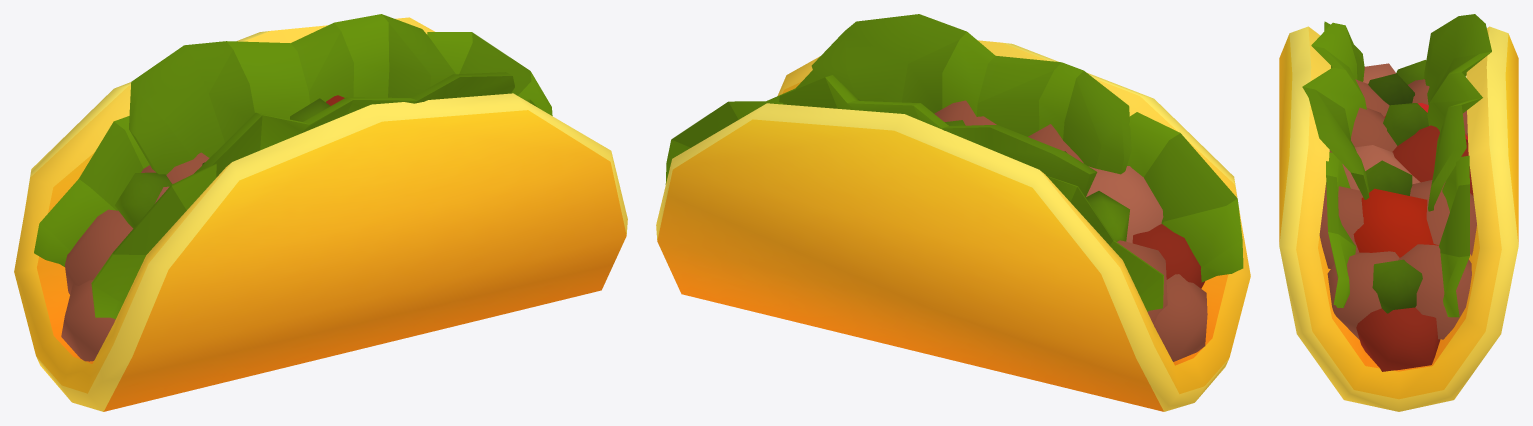
Rendered from taco.glb.
3 views of the same model, side by side, from view 1: azimuth 30°, elevation 25°; view 2: azimuth 150°, elevation 25°; view 3: azimuth 270°, elevation 25° (orthographic). The views are drawn at different scales.
Parts seen in each view (by area): view 1: F_Latin_Taco_Classic_LOD0_streetFood_0; view 2: F_Latin_Taco_Classic_LOD0_streetFood_0; view 3: F_Latin_Taco_Classic_LOD0_streetFood_0.
Part boxes in pixels (x1,y1,x2,y2): F_Latin_Taco_Classic_LOD0_streetFood_0: [14, 14, 627, 411]; F_Latin_Taco_Classic_LOD0_streetFood_0: [656, 14, 1250, 411]; F_Latin_Taco_Classic_LOD0_streetFood_0: [1279, 14, 1518, 411].
Bounding box in the file's own units: 0.2746 × 0.14 × 0.1239.
1 material, 1 textured.
